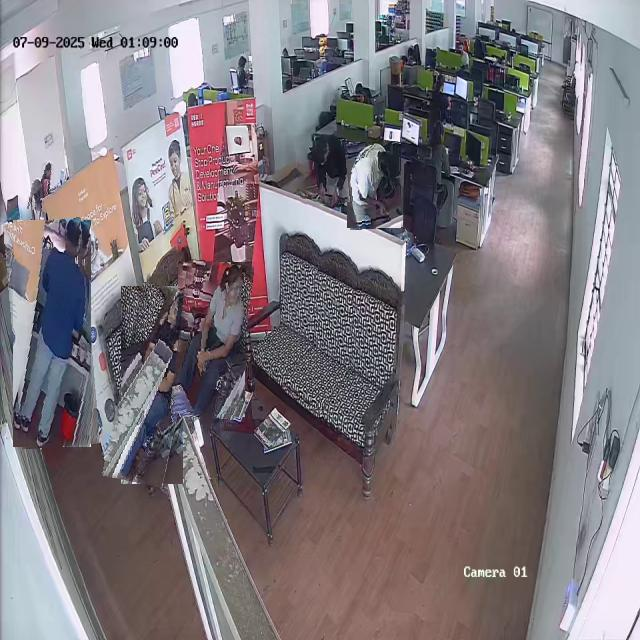person: (8, 219, 96, 448), (112, 284, 193, 486), (173, 260, 250, 419), (346, 142, 403, 229), (296, 132, 352, 206), (30, 159, 60, 213)
